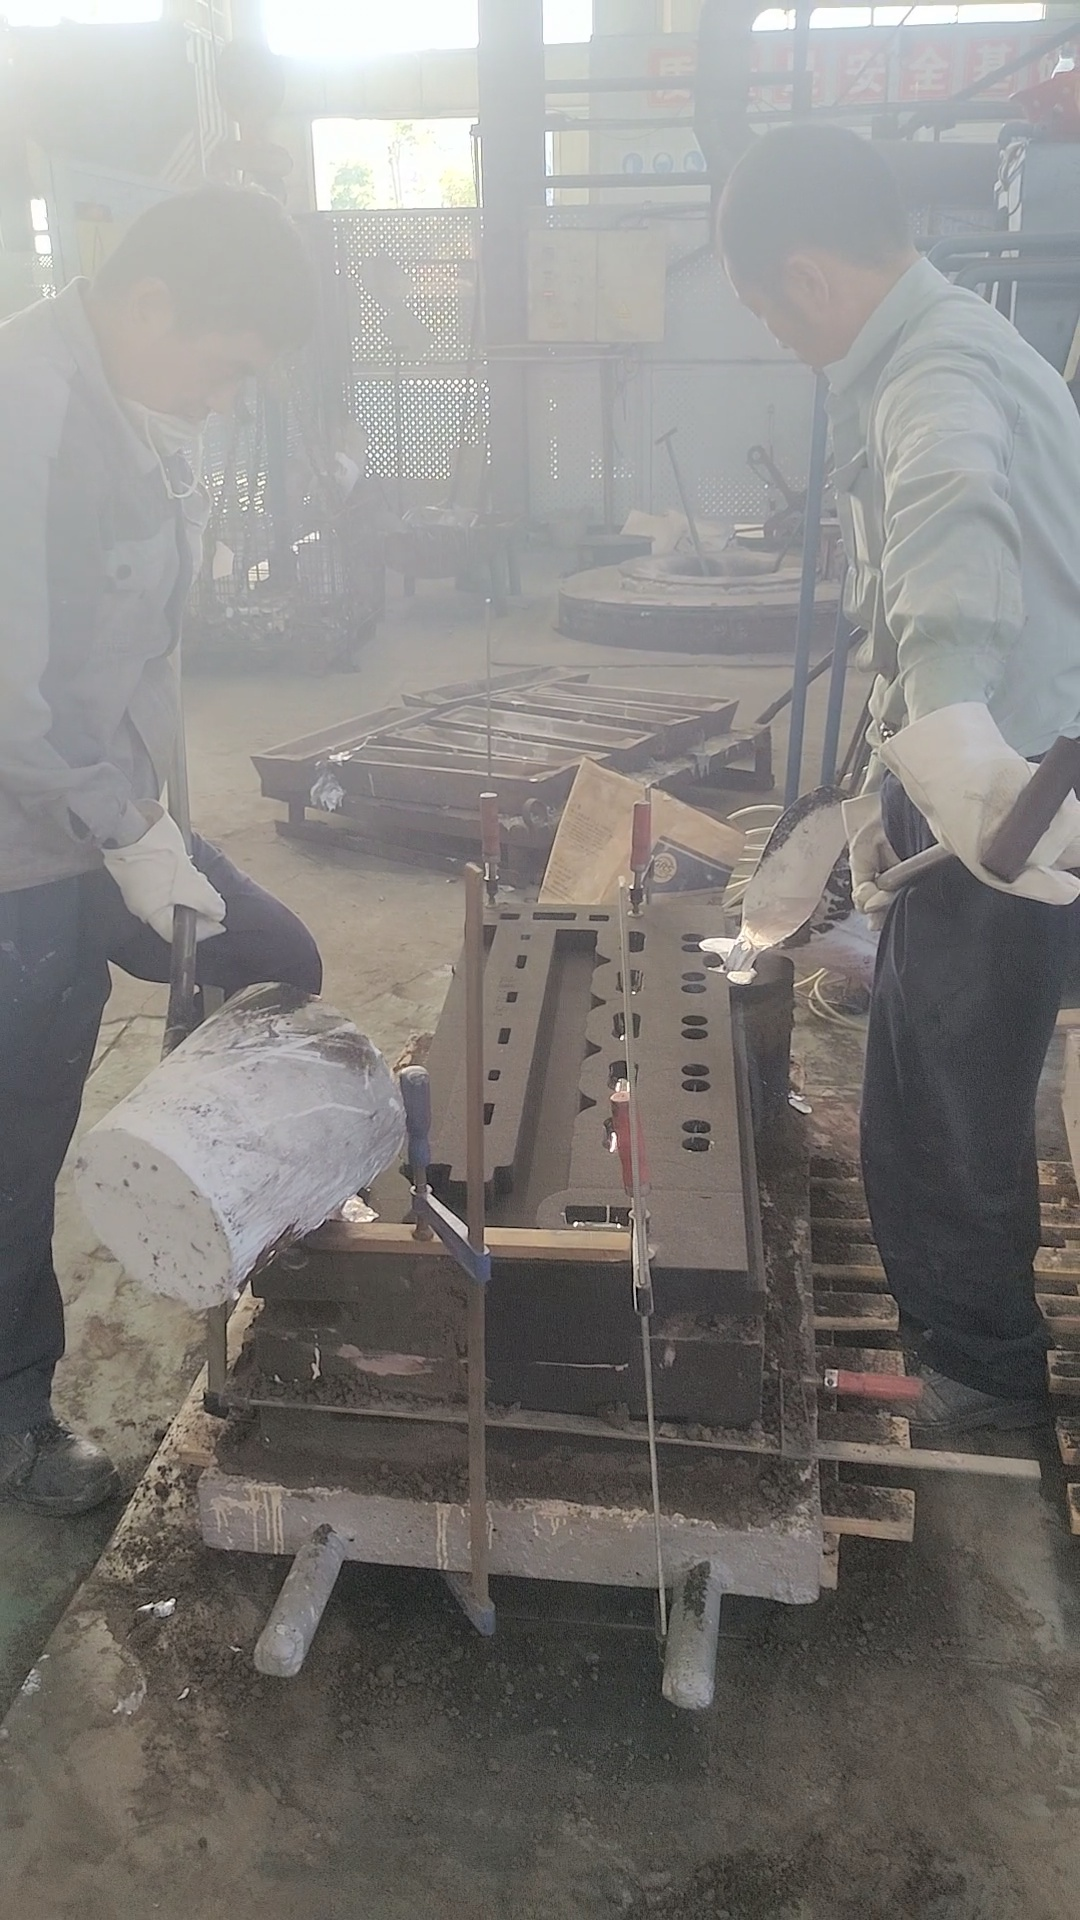pouring hole: (302, 1187, 367, 1229), (704, 949, 758, 973)
